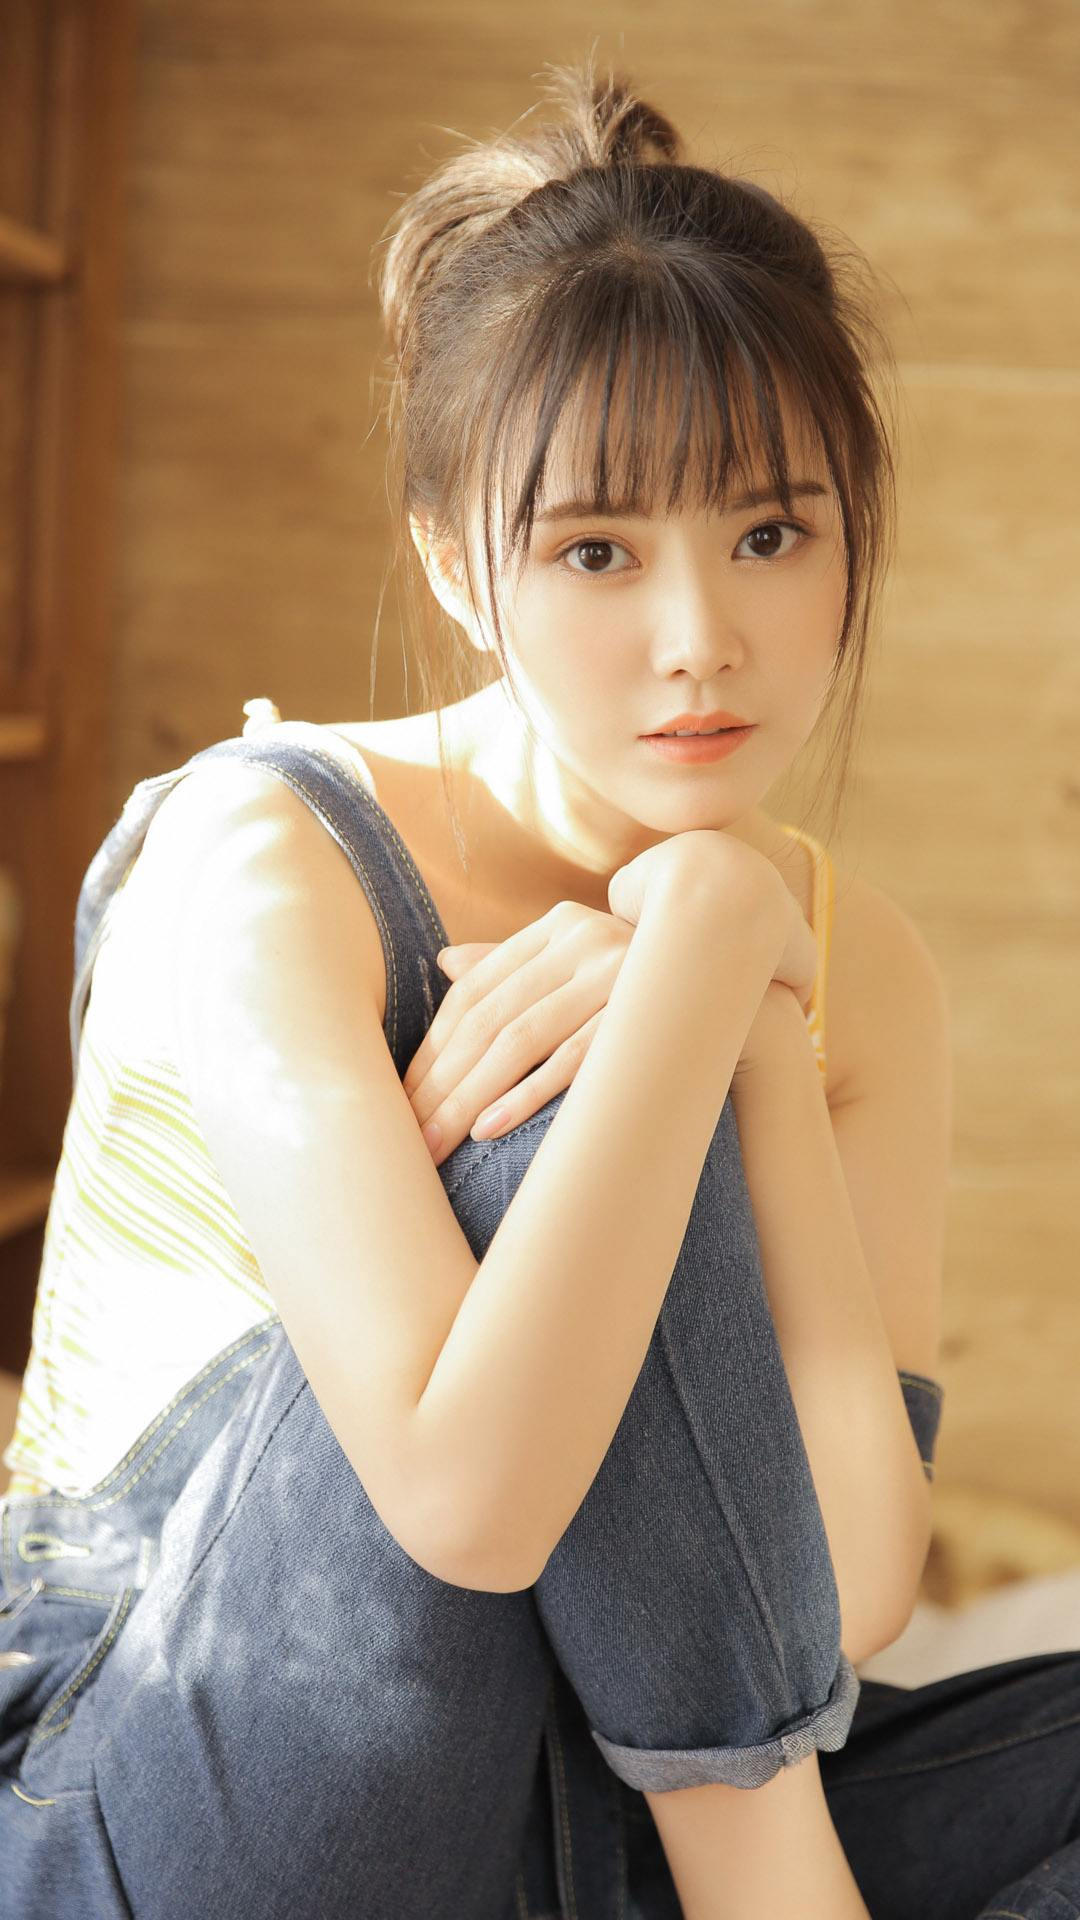person: (110, 125, 1024, 1592)
